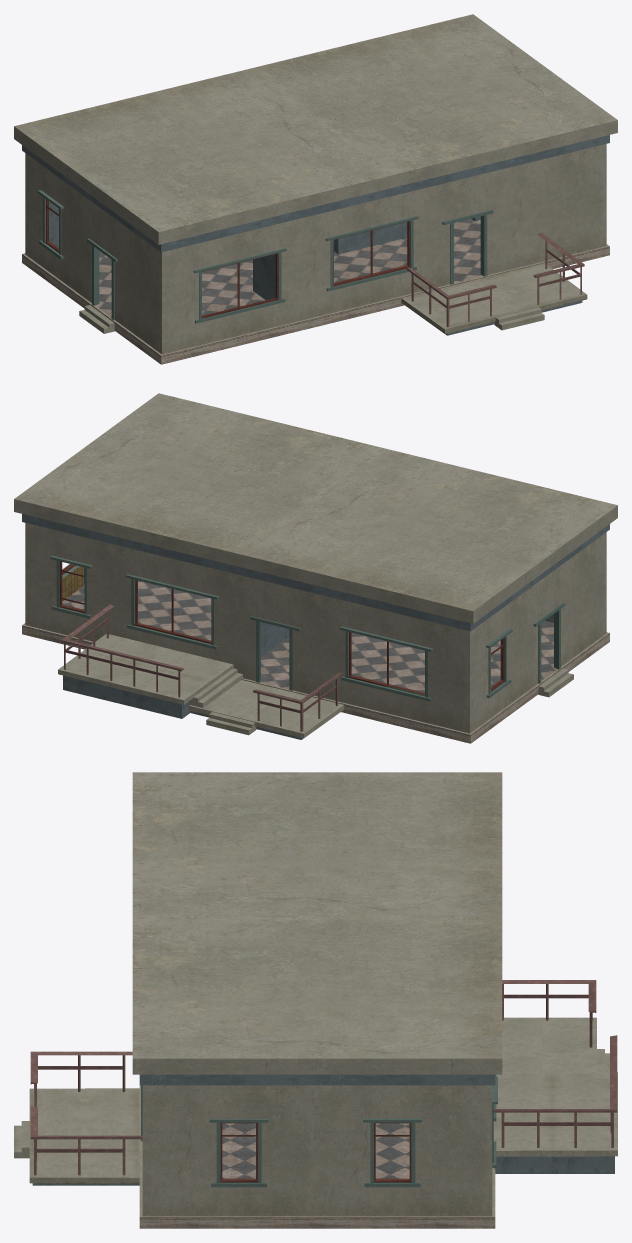
Rendered from Building_1c012048_lod1.glb.
3 renders of one model, top to bottom at view 1: azimuth 30°, elevation 25°; view 2: azimuth 150°, elevation 25°; view 3: azimuth 270°, elevation 25°, orthographic. The views are drawn at different scales.
Visible parts, largest first — view 1: xiutz_1c_01_2048_lod1; view 2: xiutz_1c_01_2048_lod1; view 3: xiutz_1c_01_2048_lod1.
Part boxes in pixels (x1,y1,x2,y2): xiutz_1c_01_2048_lod1: (14, 14, 617, 364); xiutz_1c_01_2048_lod1: (14, 393, 617, 743); xiutz_1c_01_2048_lod1: (14, 772, 617, 1228).
Size of the model in its own units: 23.16 by 6.51 by 20.42.
Materials: 1 (1 with a texture image).
